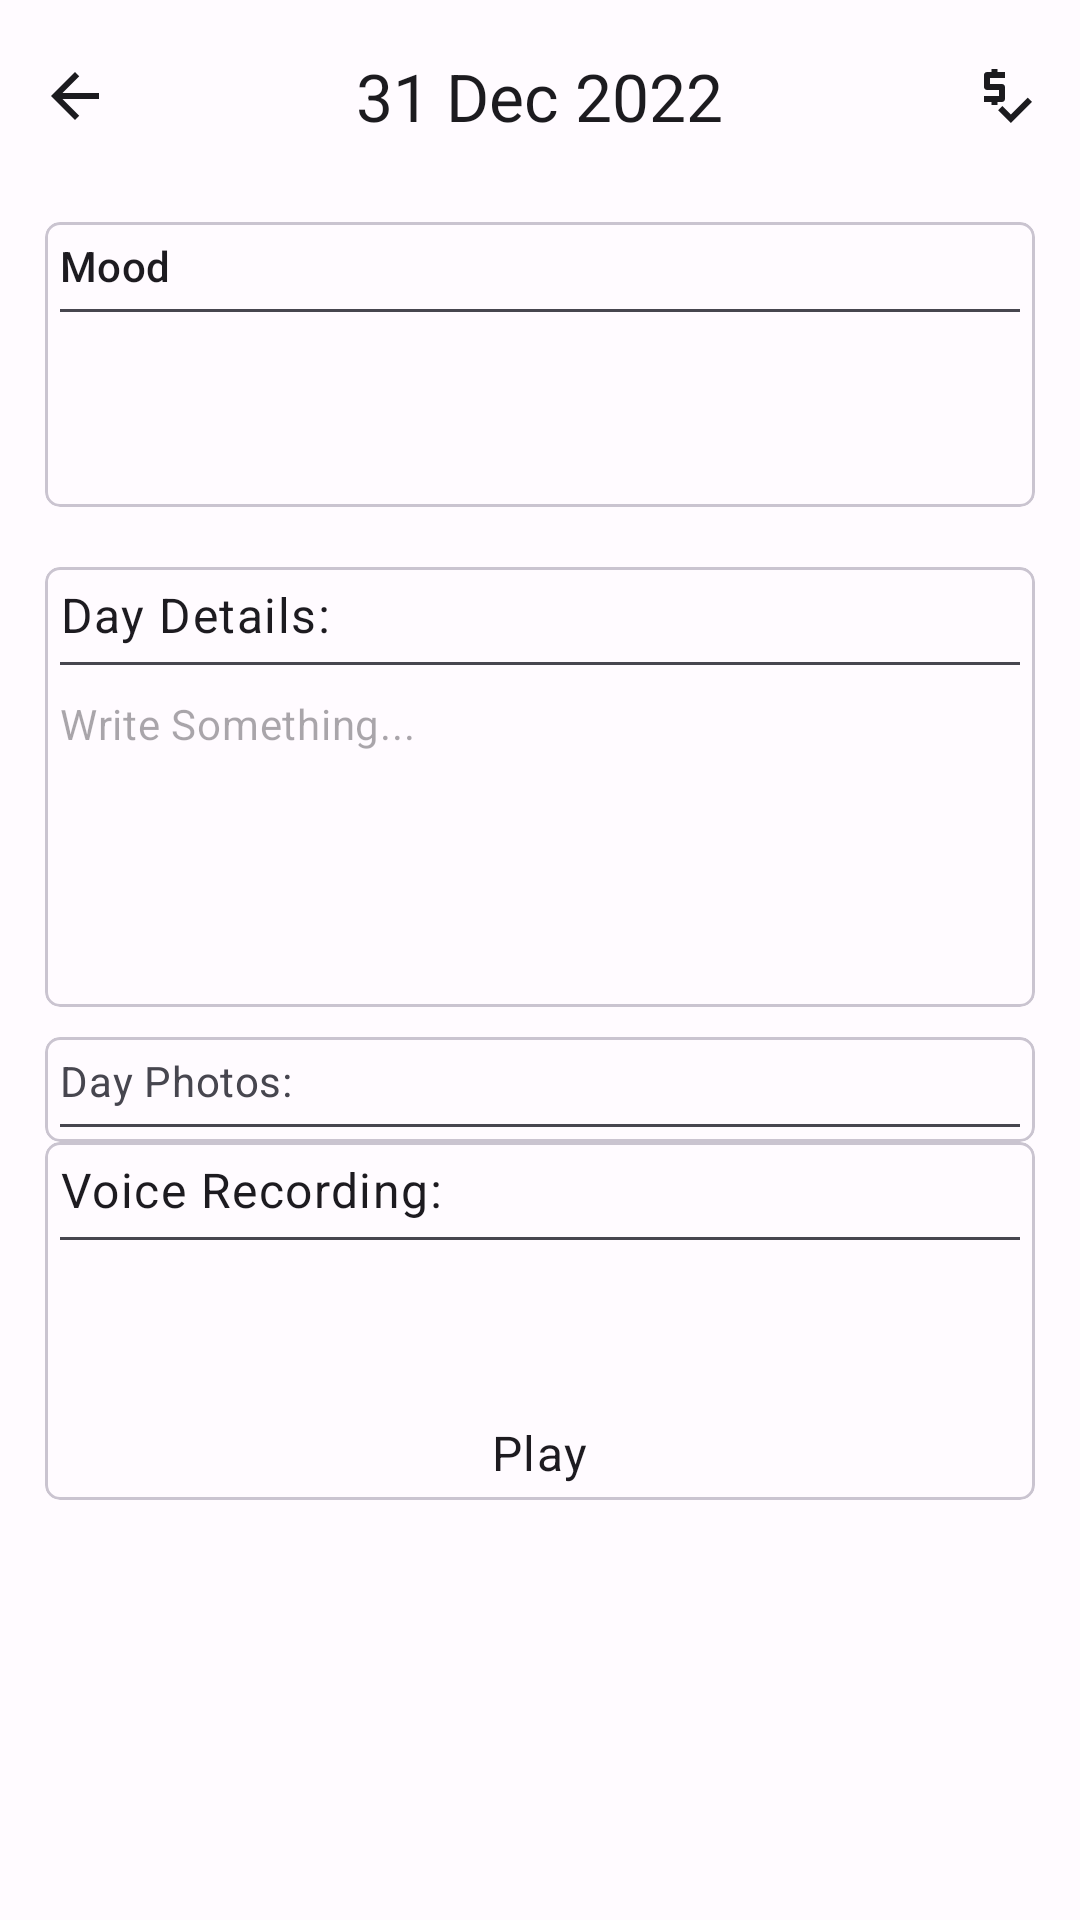

Icon bounding boxes for this 1080px×1920px phone screenshot, format bbox(x1, y1, x2, y2):
arrow back: bbox(51, 72, 99, 120)
price check: bbox(984, 69, 1032, 123)
